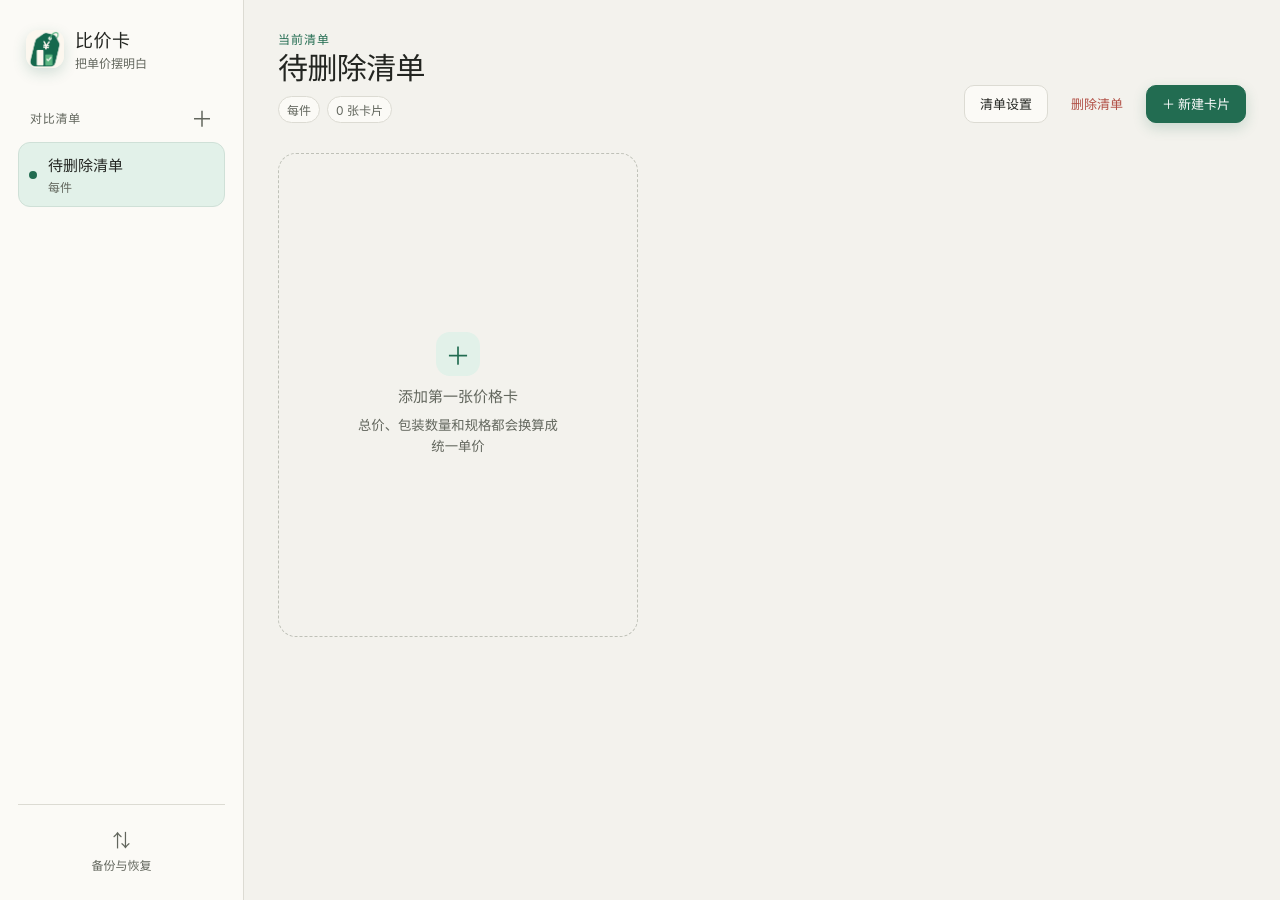
Test: App › 删除清单使用应用内确认对话框
The image size is (1280, 900).
Expected: the heading "待删除清单" is shown, [278, 52, 425, 86]
Click the button "删除清单".
click(1097, 104)  # box [1056, 85, 1138, 123]
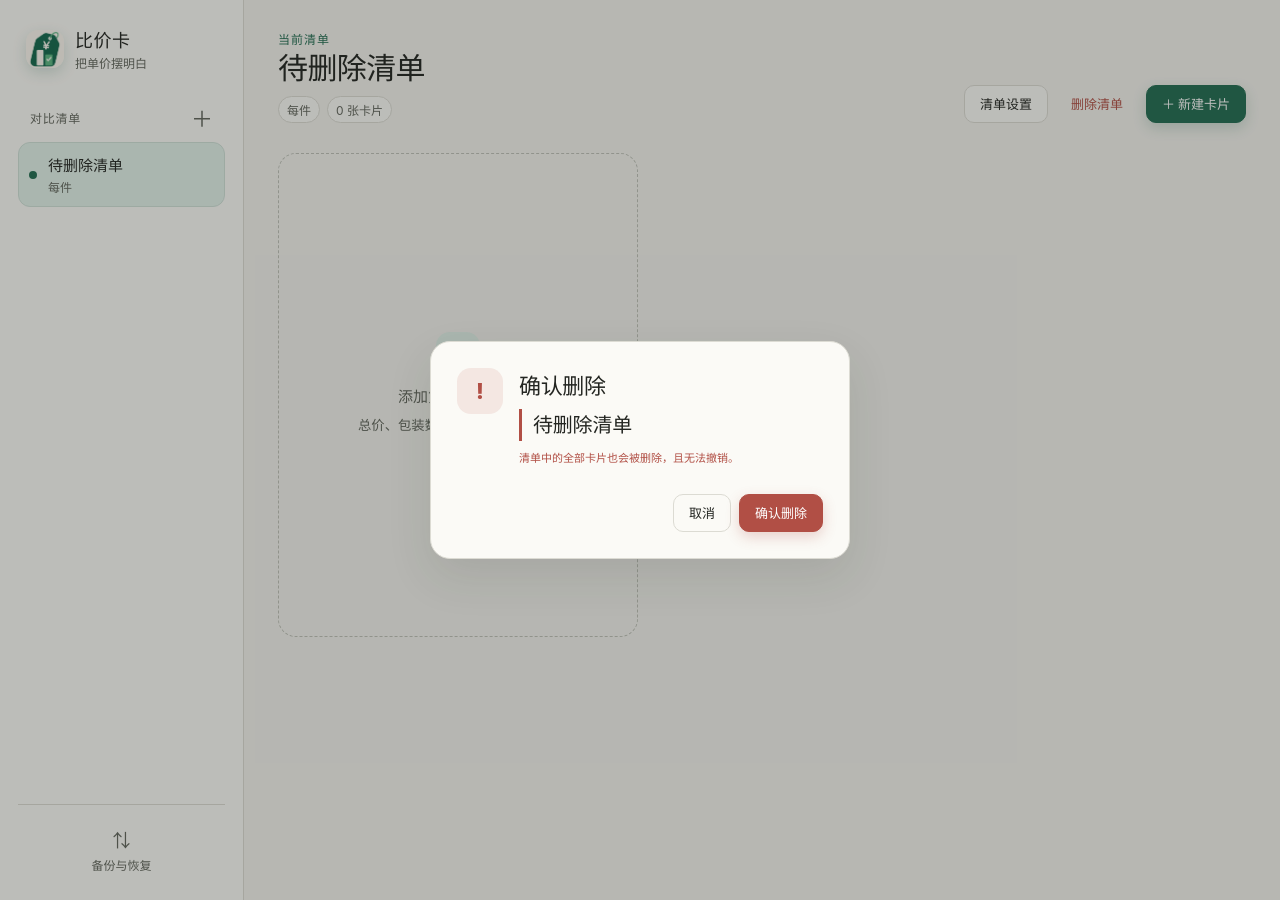
Expected: the dialog "确认删除" is shown, [430, 341, 850, 558]
Expected: the text "待删除清单" is shown, [519, 409, 823, 441]
Expected: the text "清单中的全部卡片也会被删除，且无法撤销。" is shown, [519, 451, 739, 465]
Click the button "确认删除".
click(781, 513)  # box [739, 494, 823, 532]
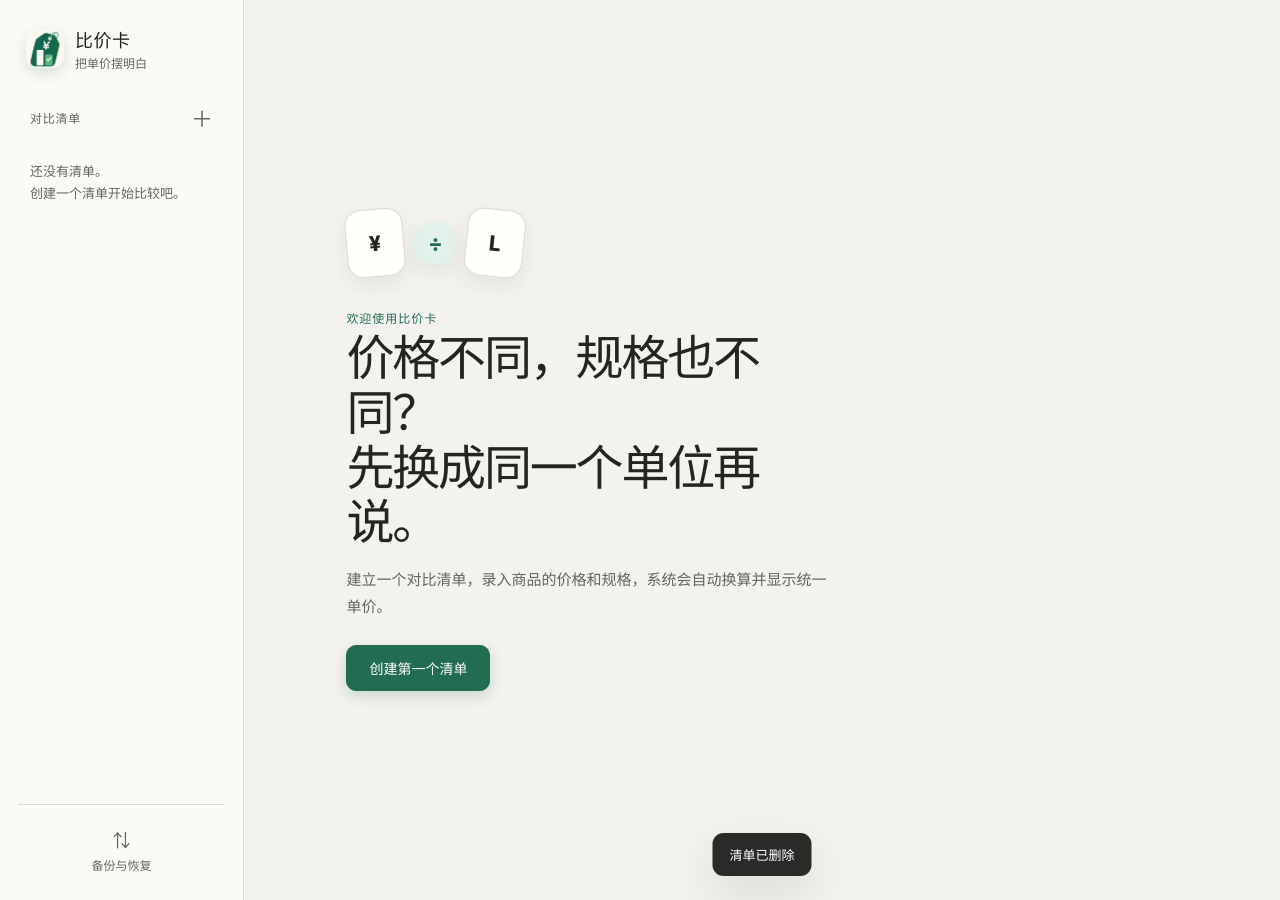
Expected: the text "清单已删除" is shown, [712, 833, 812, 876]
